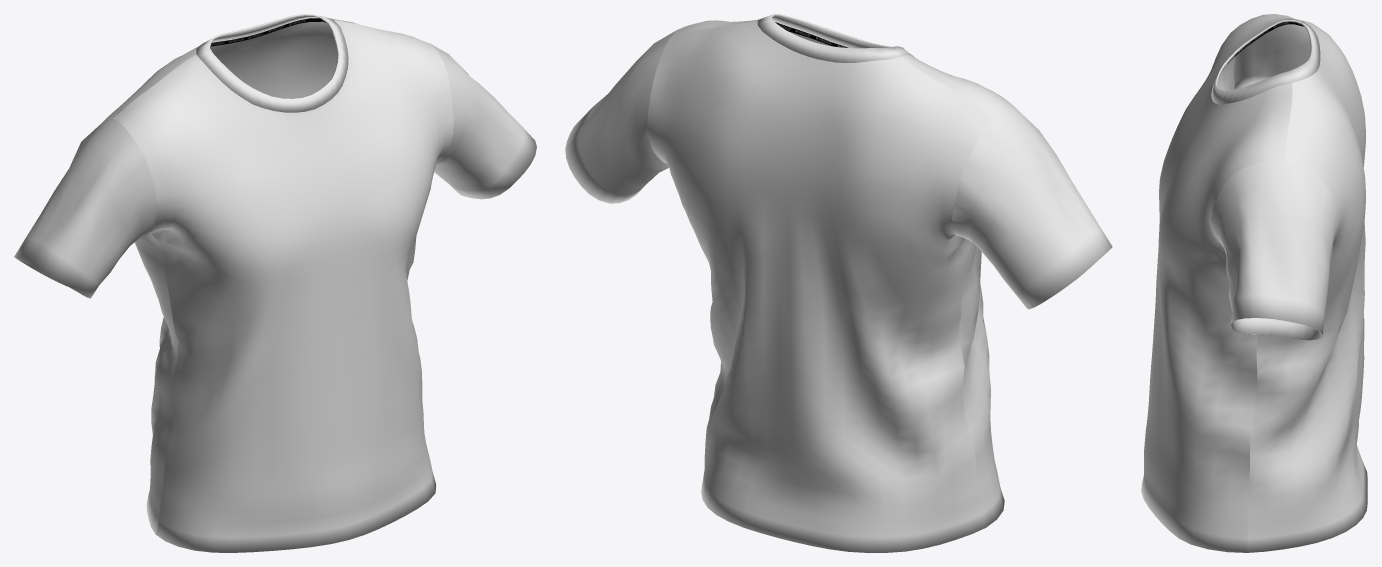
The model's file is crewneck.glb.
The picture shows the model from 3 angles, left to right: view 1: azimuth 30°, elevation 25°; view 2: azimuth 150°, elevation 25°; view 3: azimuth 270°, elevation 25°; orthographic projection. The views are drawn at different scales.
Parts seen in each view (by area): view 1: crewneck_front, crewneck_sleeve_right, crewneck_sleeve_left, crewneck_inside, crewneck_back, crewneck_collar; view 2: crewneck_back, crewneck_sleeve_right, crewneck_sleeve_left, crewneck_front, crewneck_collar; view 3: crewneck_front, crewneck_back, crewneck_sleeve_left, crewneck_inside, crewneck_collar.
Boxes of the visible parts, box(x1,y1,x2,y2) form: crewneck_front: box(113, 20, 453, 552); crewneck_sleeve_right: box(14, 118, 156, 298); crewneck_sleeve_left: box(430, 44, 536, 199); crewneck_inside: box(210, 18, 337, 98); crewneck_back: box(105, 17, 357, 533); crewneck_collar: box(196, 14, 348, 112); crewneck_back: box(647, 20, 991, 552); crewneck_sleeve_right: box(952, 108, 1112, 309); crewneck_sleeve_left: box(565, 30, 676, 203); crewneck_front: box(670, 19, 1017, 527); crewneck_collar: box(757, 14, 913, 62); crewneck_front: box(1141, 14, 1292, 552); crewneck_back: box(1247, 16, 1367, 552); crewneck_sleeve_left: box(1210, 161, 1339, 340); crewneck_inside: box(1217, 22, 1310, 325); crewneck_collar: box(1211, 19, 1320, 104).
Bounding box in the file's own units: 0.6751 × 0.5906 × 0.27.
4 materials, 2 textured.
